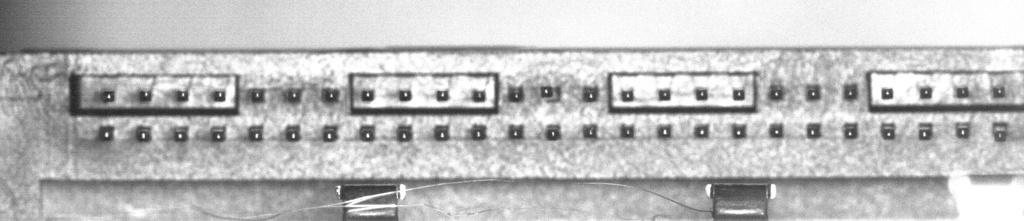pin_ok: (994, 122, 1010, 141), (918, 122, 934, 139), (582, 85, 599, 101), (507, 85, 524, 101), (955, 121, 970, 139), (322, 87, 340, 102), (136, 125, 152, 141), (247, 125, 263, 141), (98, 125, 114, 141), (359, 125, 375, 141), (285, 125, 301, 141), (322, 126, 338, 142), (470, 124, 486, 140), (881, 122, 896, 139), (843, 83, 858, 100), (285, 87, 302, 102), (769, 84, 784, 100), (843, 123, 858, 139), (397, 125, 412, 141), (508, 124, 524, 139), (434, 124, 449, 140), (806, 85, 821, 100), (806, 123, 821, 138), (211, 126, 226, 141), (769, 123, 784, 138), (545, 125, 560, 140), (620, 123, 635, 138), (249, 88, 265, 102), (992, 84, 1007, 98), (540, 85, 555, 99), (694, 124, 709, 138), (657, 124, 672, 138), (583, 124, 598, 138), (173, 127, 188, 141), (620, 87, 634, 101), (732, 124, 746, 138), (955, 85, 970, 98), (472, 89, 487, 102), (919, 85, 932, 99), (732, 87, 746, 100), (360, 88, 374, 101), (658, 88, 671, 101), (695, 87, 708, 100), (212, 89, 226, 101), (101, 90, 115, 102), (398, 89, 412, 101), (436, 89, 450, 101), (176, 89, 188, 102), (881, 87, 893, 99), (139, 89, 151, 101)
